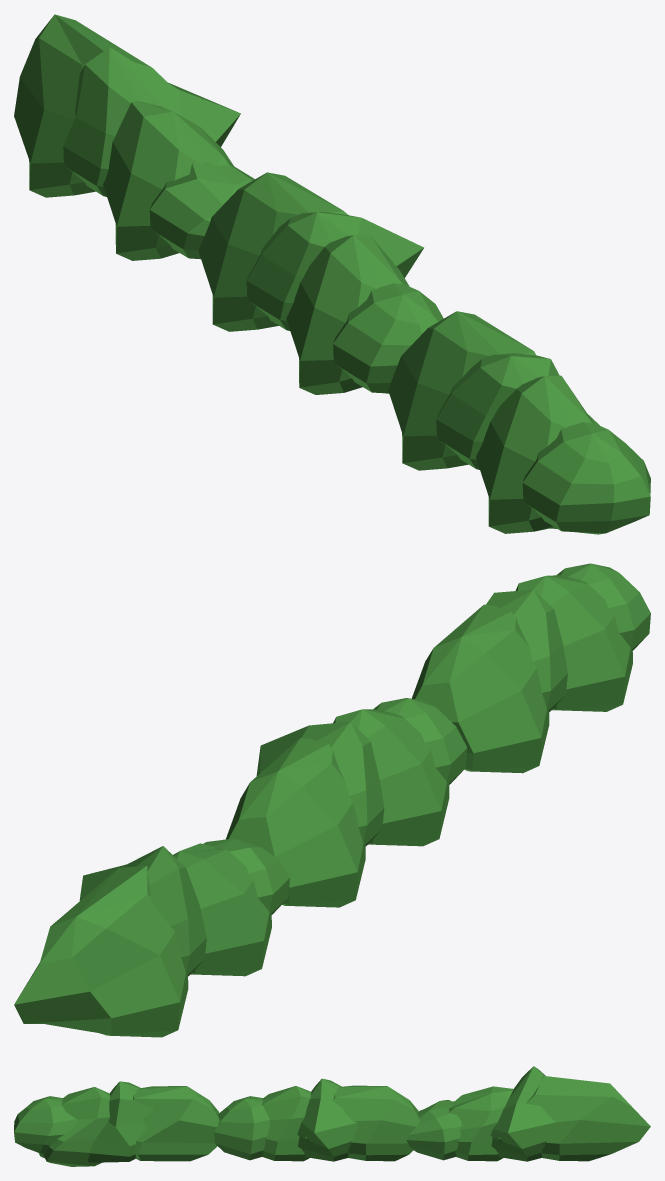
File: bushlong.fbx
3 renders of one model, top to bottom at view 1: azimuth 30°, elevation 25°; view 2: azimuth 150°, elevation 25°; view 3: azimuth 270°, elevation 25°, orthographic. The views are drawn at different scales.
Visible parts, largest first — view 1: polySurface26; view 2: polySurface26; view 3: polySurface26.
Boxes of the visible parts, bbox=[...] form: polySurface26: bbox=[14, 14, 650, 534]; polySurface26: bbox=[14, 563, 650, 1037]; polySurface26: bbox=[14, 1066, 650, 1166].
Size of the model in its own units: 6.07 by 6.26 by 40.8.
